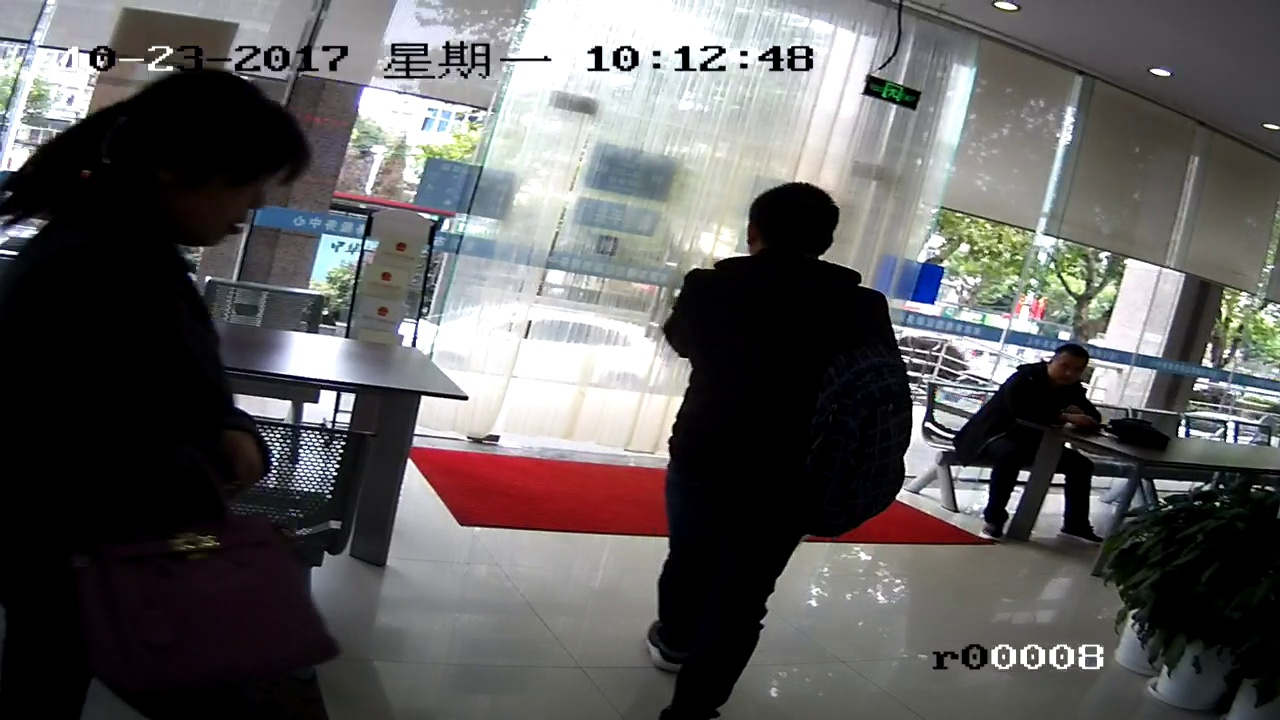person: (20, 72, 286, 672), (651, 165, 901, 704), (975, 339, 1118, 546)
